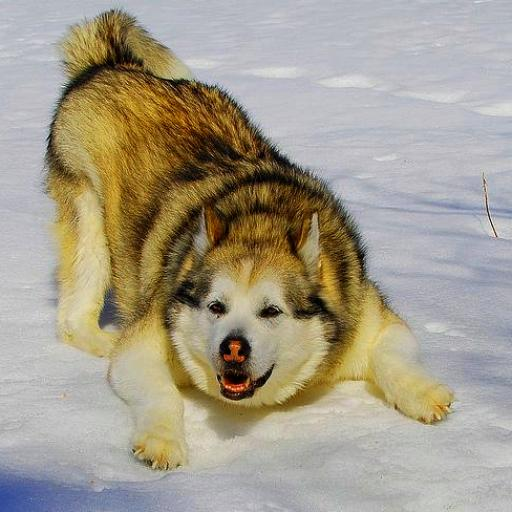dog_face: (168, 198, 334, 407)
